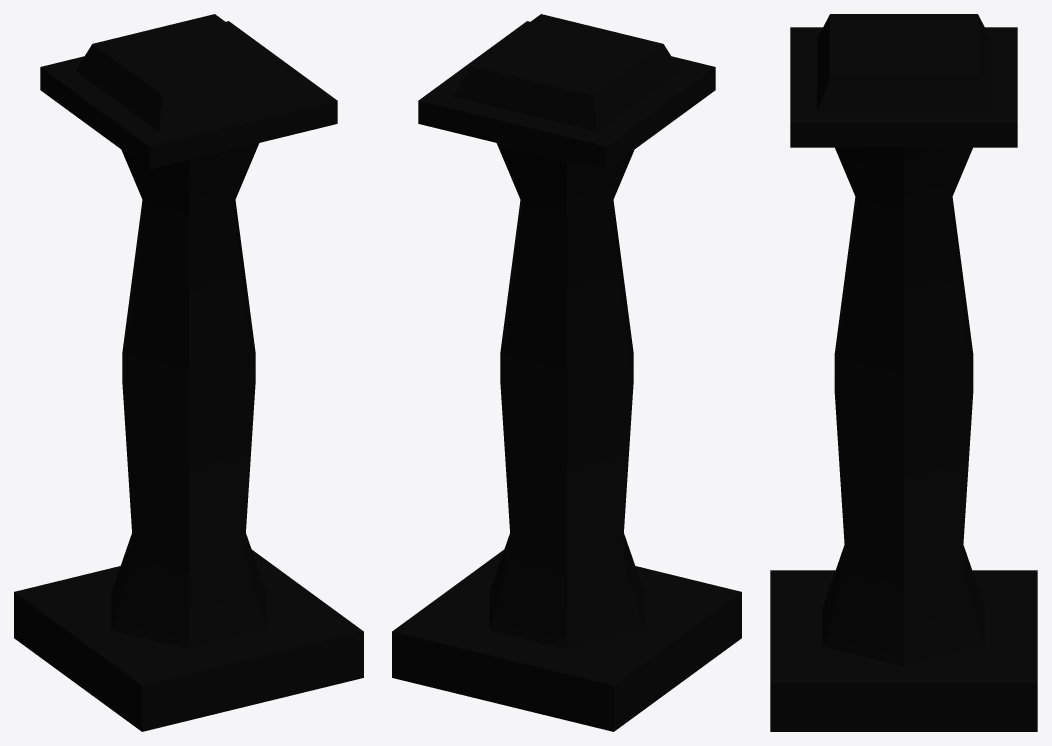
File: SM_pedestal.fbx
3 renders of one model, left to right at view 1: azimuth 30°, elevation 25°; view 2: azimuth 150°, elevation 25°; view 3: azimuth 270°, elevation 25°, orthographic. The views are drawn at different scales.
Parts seen in each view (by area): view 1: pedestal; view 2: pedestal; view 3: pedestal.
Boxes of the visible parts, x1,y1,x2,y2 form: pedestal: (14, 14, 363, 731); pedestal: (392, 14, 741, 731); pedestal: (770, 14, 1037, 731).
Size of the model in its own units: 0.4 by 1.04 by 0.4.
